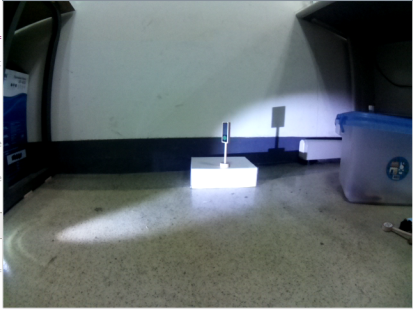Green: (220, 121, 232, 144)
